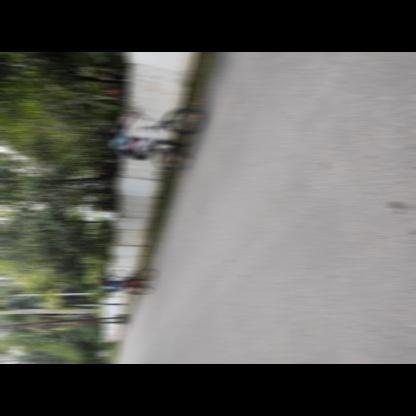Bicycle: (129, 99, 218, 184), (116, 259, 164, 307)
